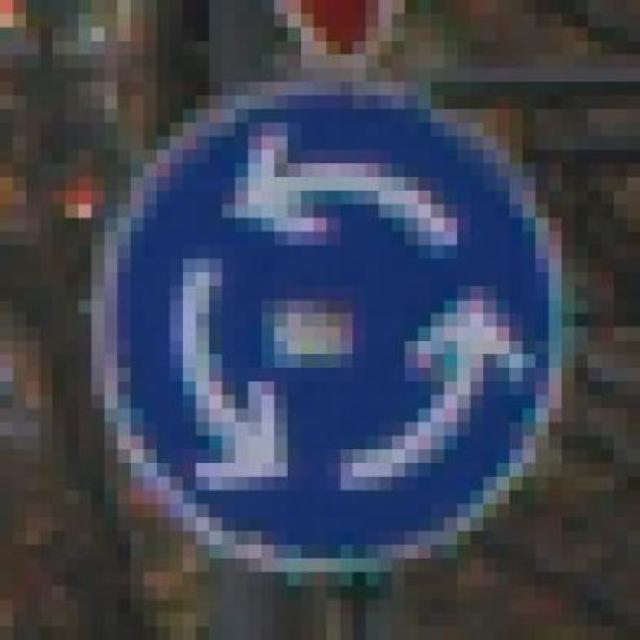Round-About: (39, 68, 613, 586)
